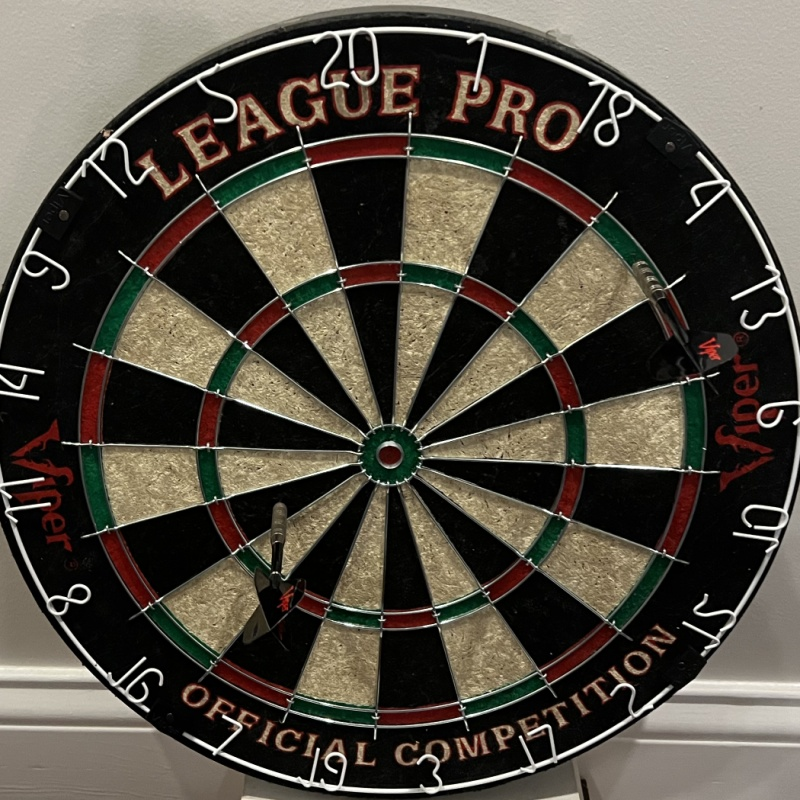dart: (627, 253, 655, 281), (269, 500, 291, 527)
eleven: (2, 474, 51, 525)
six: (753, 401, 800, 428)
three: (417, 754, 443, 792)
twenty: (316, 28, 382, 90)
